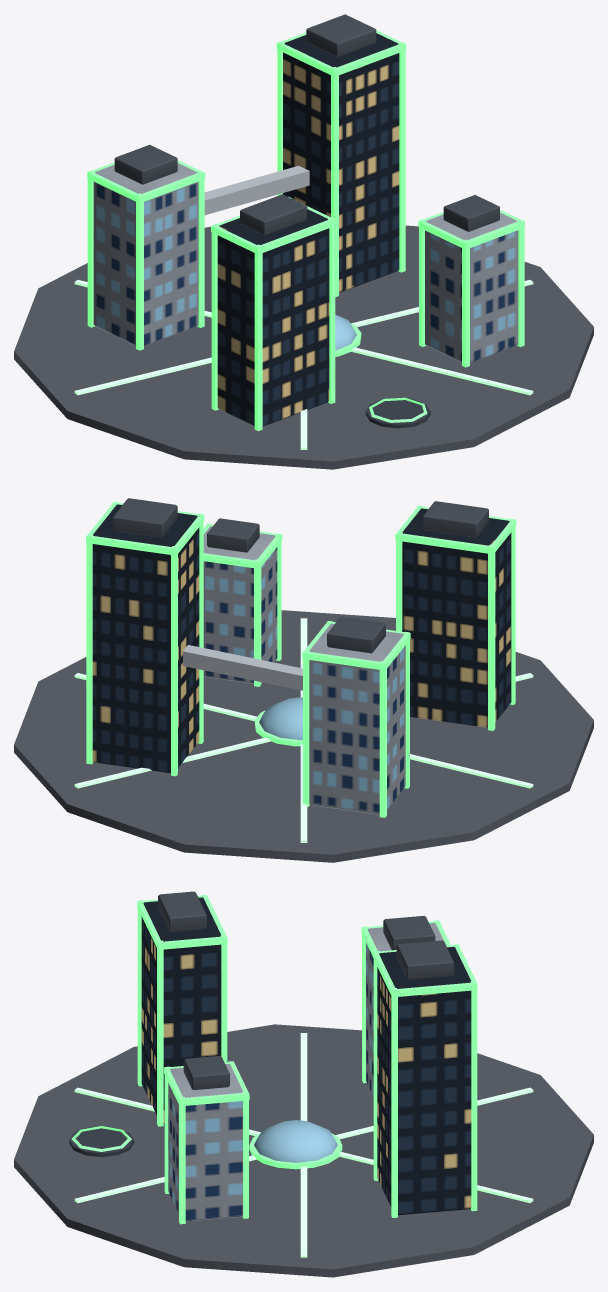
The model's file is district_scifi_green.glb.
3 views of the same model, one above another, from view 1: azimuth 30°, elevation 25°; view 2: azimuth 150°, elevation 25°; view 3: azimuth 270°, elevation 25° (orthographic).
Parts seen in each view (by area): view 1: district_scifi_green; view 2: district_scifi_green; view 3: district_scifi_green.
Boxes of the visible parts, x1=… form: district_scifi_green: x1=14, y1=14, x2=593, y2=469; district_scifi_green: x1=14, y1=498, x2=593, y2=862; district_scifi_green: x1=14, y1=891, x2=593, y2=1277.
Size of the model in its own units: 1.43 by 0.726 by 1.43.
Materials: 3 (1 with a texture image).
